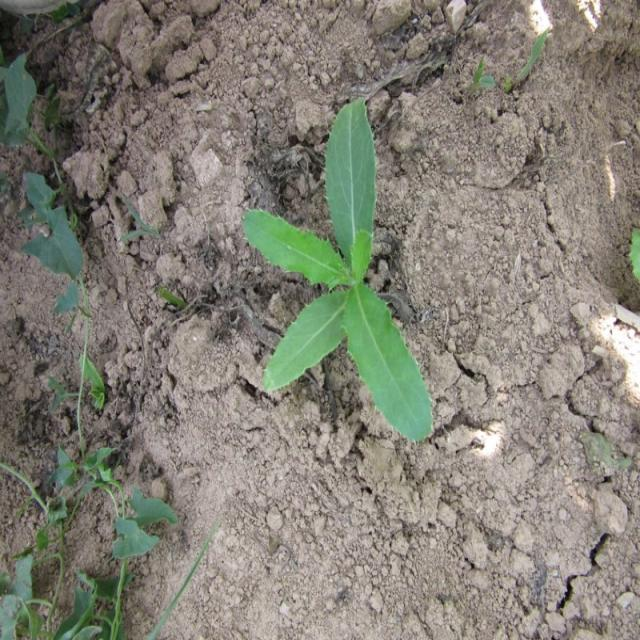field_thistle: (247, 82, 446, 451)
